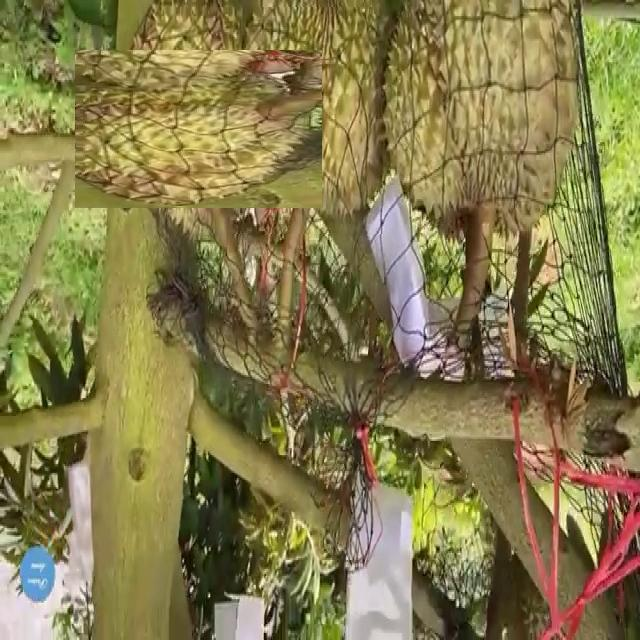durian: (384, 2, 588, 262), (97, 28, 300, 231), (230, 7, 397, 234)
